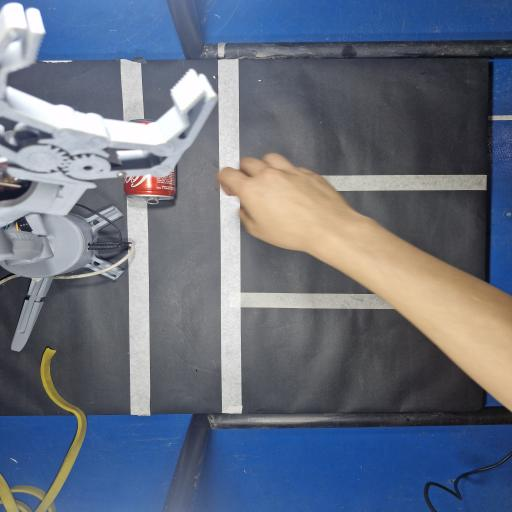lata: (124, 170, 176, 204), (130, 118, 154, 124)
